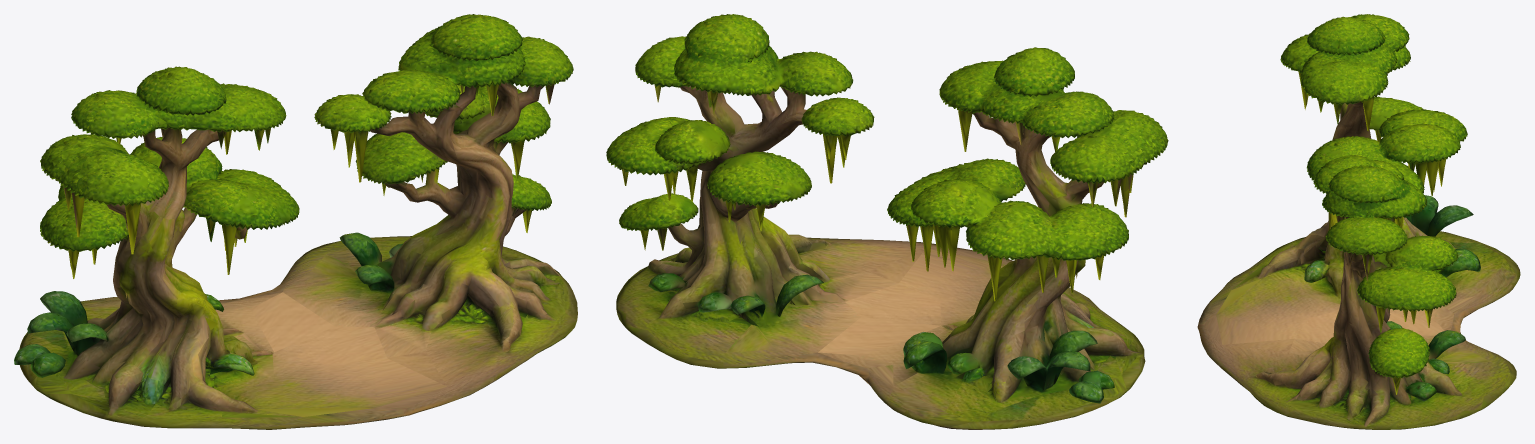
Rendered from arboles-ancestrales.glb.
3 views of the same model, side by side, from view 1: azimuth 30°, elevation 25°; view 2: azimuth 150°, elevation 25°; view 3: azimuth 270°, elevation 25° (orthographic). The views are drawn at different scales.
Parts seen in each view (by area): view 1: world-trees; view 2: world-trees; view 3: world-trees.
Boxes of the visible parts, x1,y1,x2,y2 form: world-trees: (14,14,577,429); world-trees: (606,14,1168,429); world-trees: (1197,14,1520,429).
Size of the model in its own units: 1 by 0.5786 by 0.6604.
1 material, 1 textured.
